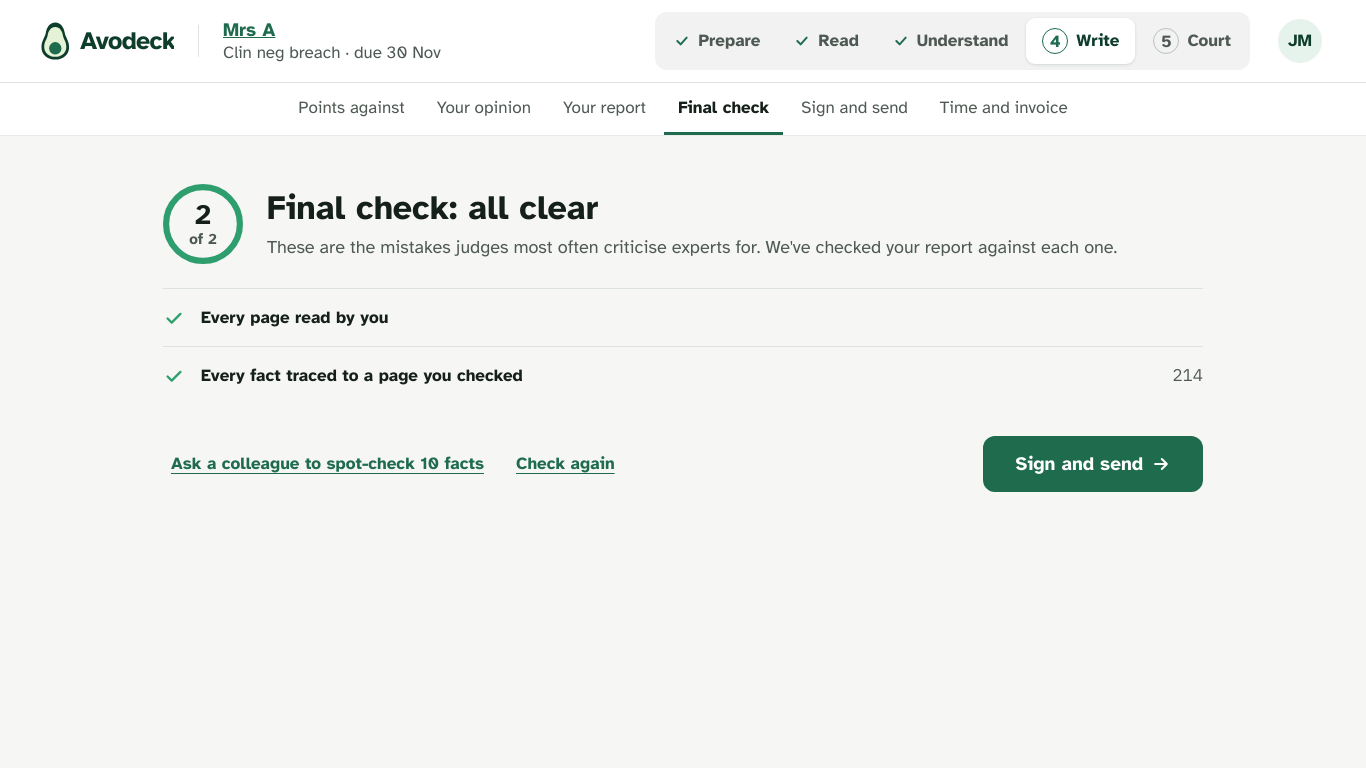
the spot-check is one link; its form opens only when asked for
Expected: the field labelled "Colleague's email" is not shown
Click the button "Ask a colleague to spot-check 10 facts" at (328, 464), box x1=163 y1=438 x2=492 y2=490
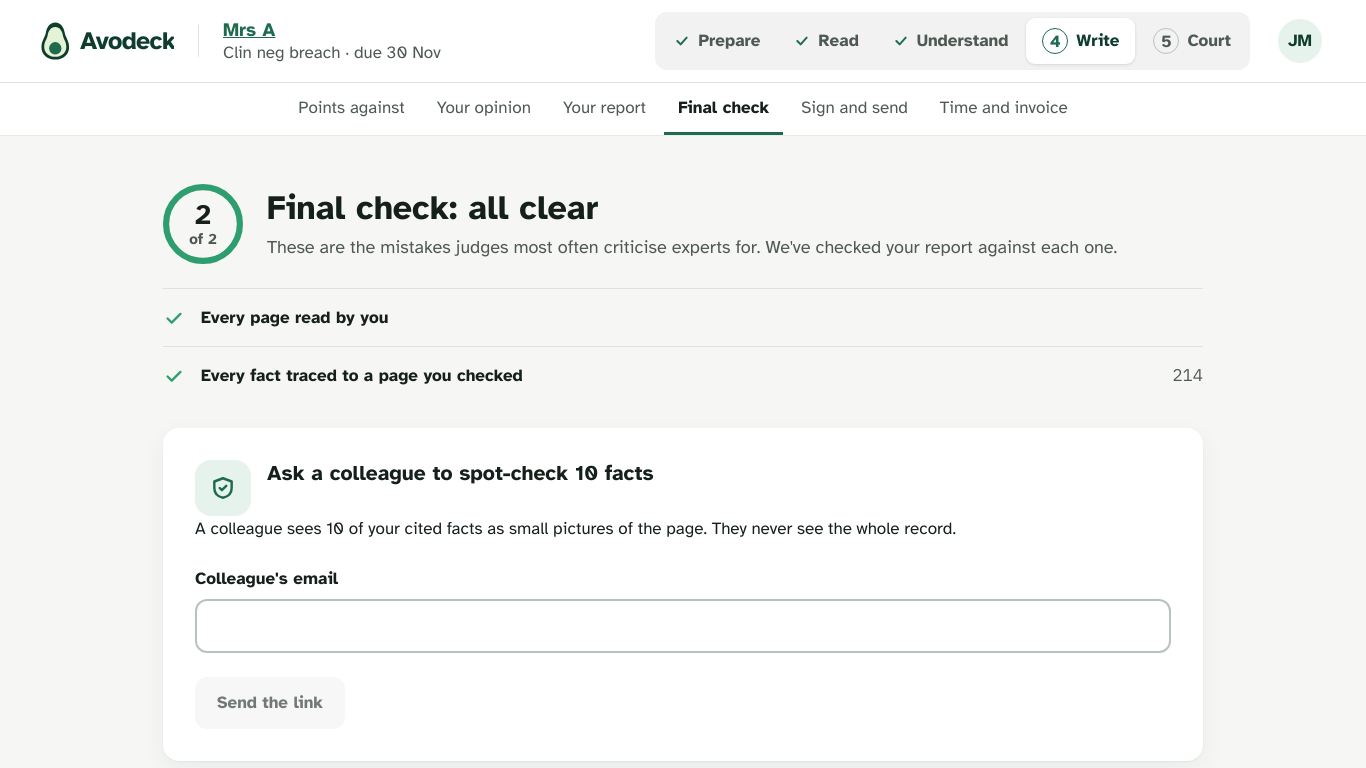
Expected: the field labelled "Colleague's email" is shown, x1=195 y1=599 x2=1171 y2=652
